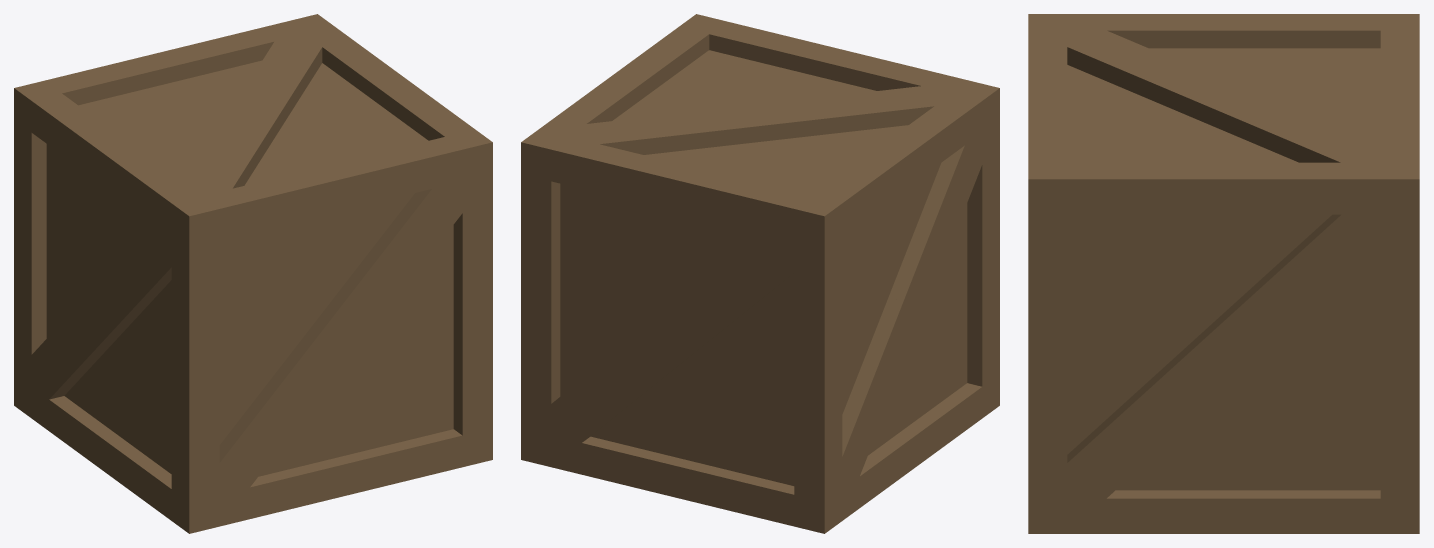
The model's file is crate_broken.fbx.
3 views of the same model, side by side, from view 1: azimuth 30°, elevation 25°; view 2: azimuth 150°, elevation 25°; view 3: azimuth 270°, elevation 25° (orthographic). The views are drawn at different scales.
Visible parts, largest first — view 1: crateFace018, crateFace017, crateFace07, crateFace012, crateFace030, crateFace019, crateFace016, crateFace028, crateFace055, crateFace061, crateFace021, crateFace015 (+14 smaller); view 2: crateFace039, crateFace040, crateFace030, crateFace038, crateFace037, crateFace019, crateFace055, crateFace035, crateFace021, crateFace066, crateFace031, crateFace059 (+16 smaller); view 3: crateFace052, crateFace048, crateFace049, crateFace047, crateFace046, crateFace050, crateFace059, crateFace055, crateFace061, crateFace066, crateFace065, crateFace060 (+8 smaller).
Boxes of the visible parts, x1=… form: crateFace018: x1=347, y1=317, x2=492, y2=492; crateFace017: x1=189, y1=319, x2=340, y2=533; crateFace07: x1=317, y1=152, x2=464, y2=338; crateFace012: x1=189, y1=339, x2=356, y2=533; crateFace030: x1=93, y1=146, x2=189, y2=368; crateFace019: x1=110, y1=327, x2=189, y2=520; crateFace016: x1=219, y1=217, x2=320, y2=342; crateFace028: x1=30, y1=311, x2=125, y2=475; crateFace055: x1=277, y1=85, x2=472, y2=175; crateFace061: x1=254, y1=30, x2=413, y2=133; crateFace021: x1=14, y1=231, x2=101, y2=387; crateFace015: x1=341, y1=176, x2=492, y2=350; crateFace039: x1=688, y1=348, x2=824, y2=525; crateFace040: x1=521, y1=142, x2=665, y2=311; crateFace030: x1=888, y1=107, x2=999, y2=315; crateFace038: x1=546, y1=338, x2=696, y2=500; crateFace037: x1=657, y1=175, x2=824, y2=369; crateFace019: x1=906, y1=240, x2=999, y2=462; crateFace055: x1=618, y1=22, x2=831, y2=109; crateFace035: x1=666, y1=209, x2=794, y2=358; crateFace021: x1=824, y1=298, x2=912, y2=496; crateFace066: x1=762, y1=94, x2=976, y2=162; crateFace031: x1=521, y1=285, x2=672, y2=439; crateFace059: x1=754, y1=47, x2=957, y2=116; crateFace052: x1=1244, y1=355, x2=1419, y2=533; crateFace048: x1=1028, y1=179, x2=1204, y2=339; crateFace049: x1=1204, y1=179, x2=1419, y2=371; crateFace047: x1=1062, y1=355, x2=1253, y2=533; crateFace046: x1=1028, y1=330, x2=1220, y2=498; crateFace050: x1=1203, y1=214, x2=1380, y2=368; crateFace059: x1=1028, y1=28, x2=1225, y2=122; crateFace055: x1=1028, y1=105, x2=1204, y2=179; crateFace061: x1=1203, y1=97, x2=1386, y2=179; crateFace066: x1=1067, y1=14, x2=1243, y2=95; crateFace065: x1=1243, y1=39, x2=1380, y2=105; crateFace060: x1=1243, y1=14, x2=1419, y2=88.
Bounding box in the file's own units: 40 × 40 × 40.
